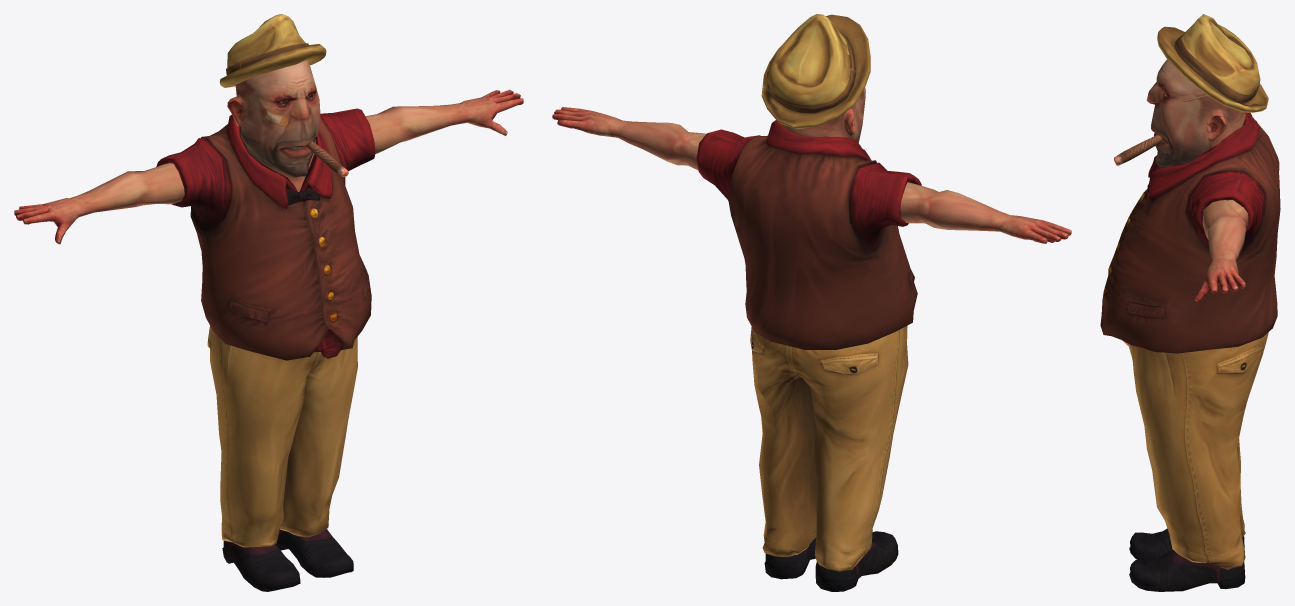
File: Jump_lod2.gltf
The picture shows the model from 3 angles, left to right: view 1: azimuth 30°, elevation 25°; view 2: azimuth 150°, elevation 25°; view 3: azimuth 270°, elevation 25°; orthographic projection.
Visible parts, largest first — view 1: Jump_mesh; view 2: Jump_mesh; view 3: Jump_mesh.
Boxes of the visible parts, x1,y1,x2,y2 form: Jump_mesh: (14,14,523,591); Jump_mesh: (552,14,1071,591); Jump_mesh: (1100,14,1280,591).
Bounding box in the file's own units: 1.93 × 1.99 × 0.5878.
Materials: 4 (4 with a texture image).
